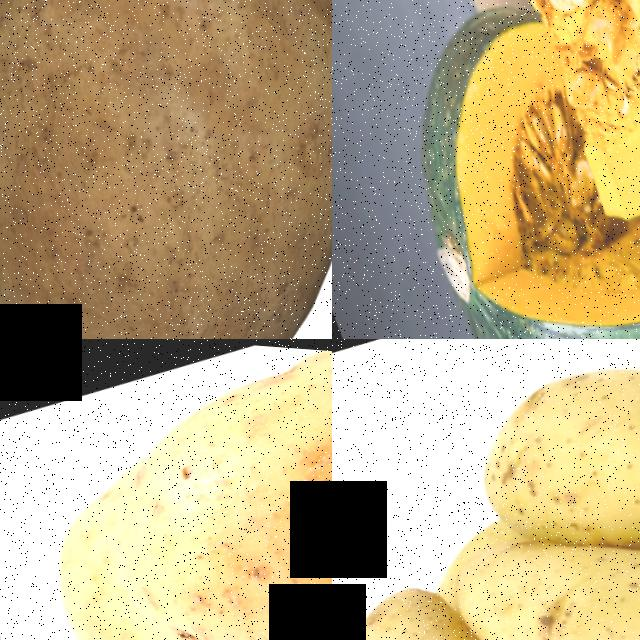potato: (0, 0, 332, 339), (48, 339, 332, 640), (439, 339, 640, 579), (472, 471, 640, 640), (332, 554, 556, 640)
pumpkin: (349, 0, 640, 339), (472, 0, 640, 237)
